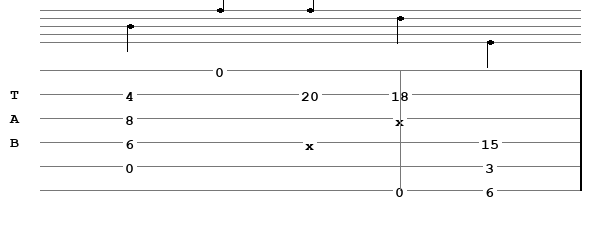0: (125, 160, 138, 173), (215, 64, 228, 77), (395, 184, 408, 197)
15: (481, 136, 503, 149)
18: (391, 88, 413, 101)
20: (301, 88, 323, 101)
3: (485, 160, 498, 173)
4: (125, 88, 138, 101)
6: (125, 136, 138, 149), (485, 184, 498, 197)
8: (125, 112, 138, 125)
x: (305, 137, 318, 147), (395, 113, 408, 123)
